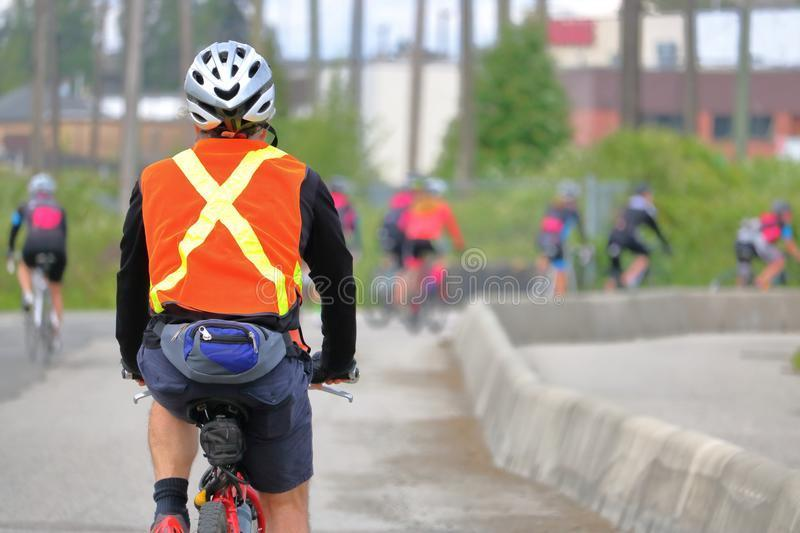Vest: (137, 138, 308, 327)
